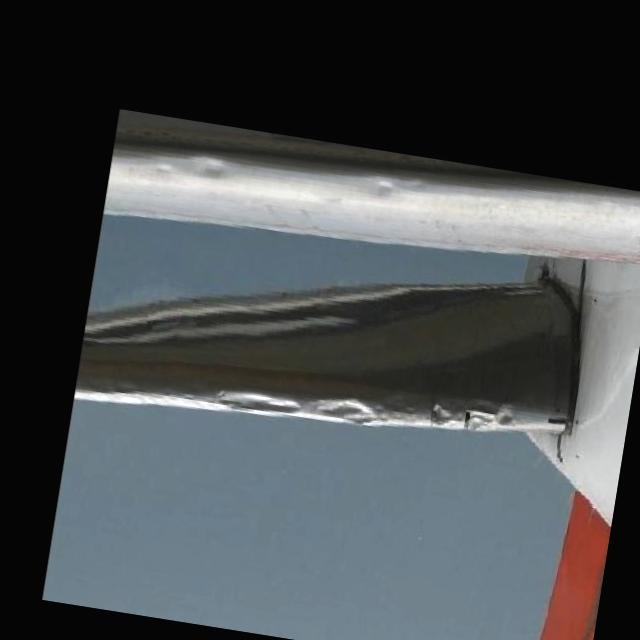dent: (215, 382, 306, 418), (306, 390, 384, 428), (195, 152, 228, 184), (460, 404, 494, 434), (420, 401, 456, 429), (494, 402, 523, 428), (372, 177, 398, 202)
